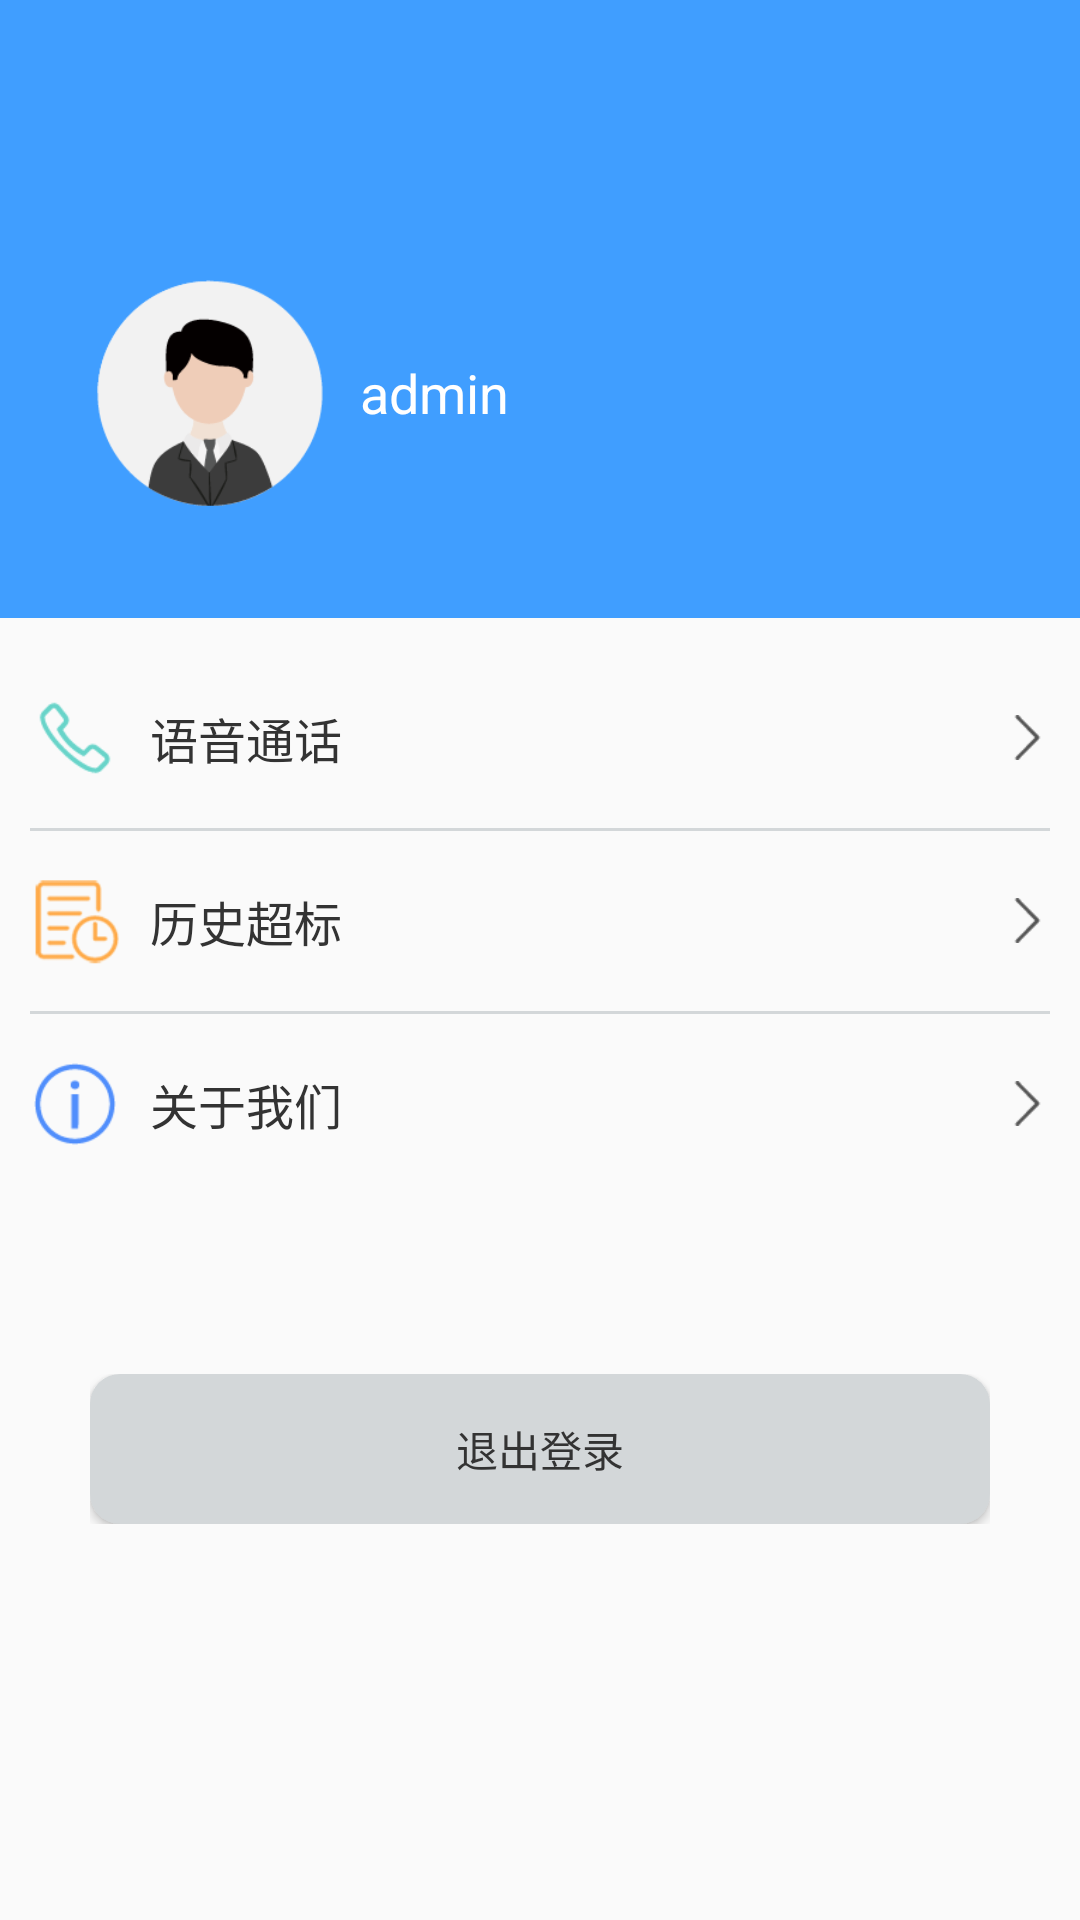

Where to tap for icons on this 1080px×1920px app screen, as point (x, y):
about: point (75, 1104)
history: point (77, 922)
more: point (1027, 737), point (1027, 920), point (1027, 1103)
phone: point (74, 738)
